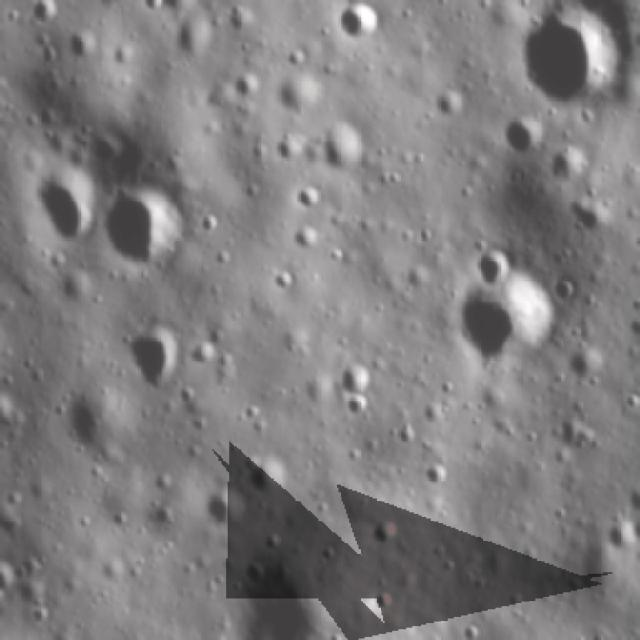crater: (517, 3, 626, 114), (452, 272, 563, 366), (233, 551, 342, 637), (99, 184, 195, 271), (32, 159, 108, 255), (55, 383, 136, 452), (115, 316, 188, 390), (314, 117, 368, 181), (168, 5, 224, 64), (495, 109, 548, 162), (540, 140, 592, 192), (271, 72, 324, 122), (202, 480, 252, 531), (549, 413, 600, 462), (332, 3, 388, 45), (243, 453, 294, 499), (566, 193, 612, 244), (332, 354, 383, 398), (467, 251, 516, 294), (81, 128, 127, 170), (288, 172, 326, 217), (331, 388, 378, 423), (366, 511, 406, 551), (228, 67, 266, 108), (63, 27, 103, 65), (290, 220, 327, 260), (568, 344, 604, 385), (183, 334, 220, 372), (432, 82, 463, 126), (267, 264, 302, 301), (274, 129, 309, 166), (607, 516, 640, 554), (417, 458, 452, 492), (107, 38, 141, 71), (284, 37, 313, 74), (367, 580, 396, 617), (27, 5, 64, 32), (200, 210, 226, 241), (148, 499, 174, 530), (452, 615, 483, 640), (214, 246, 235, 271)
